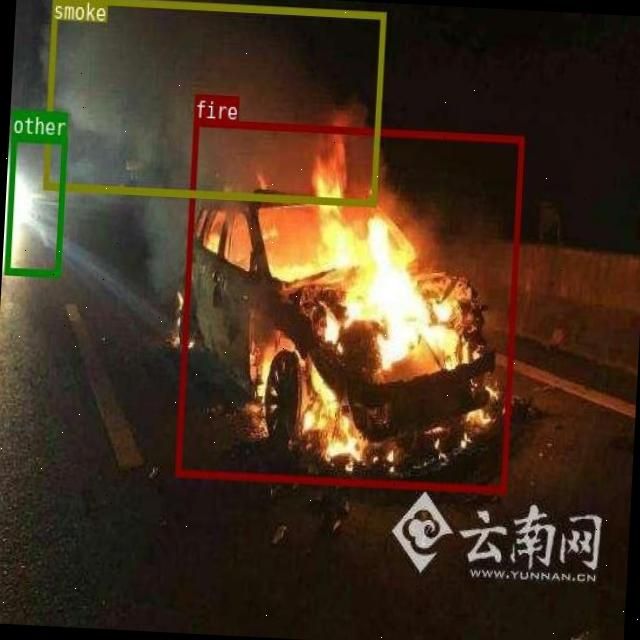fire: (175, 118, 524, 493)
smoke: (42, 0, 385, 204)
